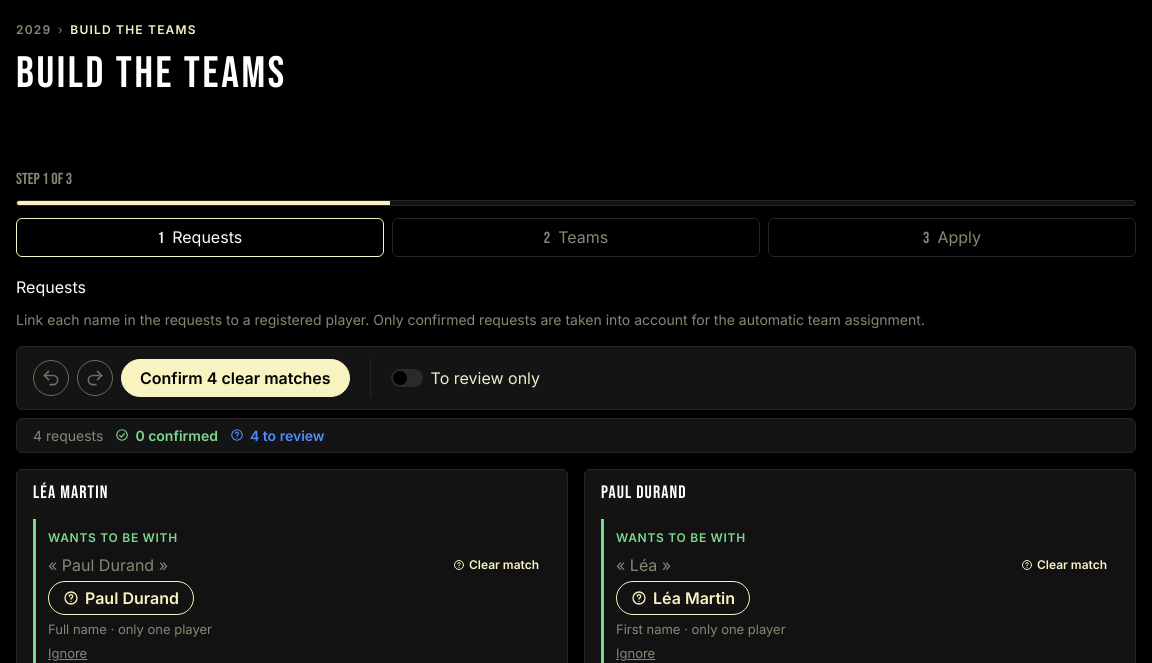
Test: team builder page › confirms every clear match with one click and keeps the count and the warning in step
Expected: the text "0 confirmed" is shown, [115, 427, 218, 444]
Expected: the text "4 to review" is shown, [230, 427, 325, 444]
Step 1. Click the button "Confirm 4 clear matches" → point(235, 378), box [121, 359, 350, 397]
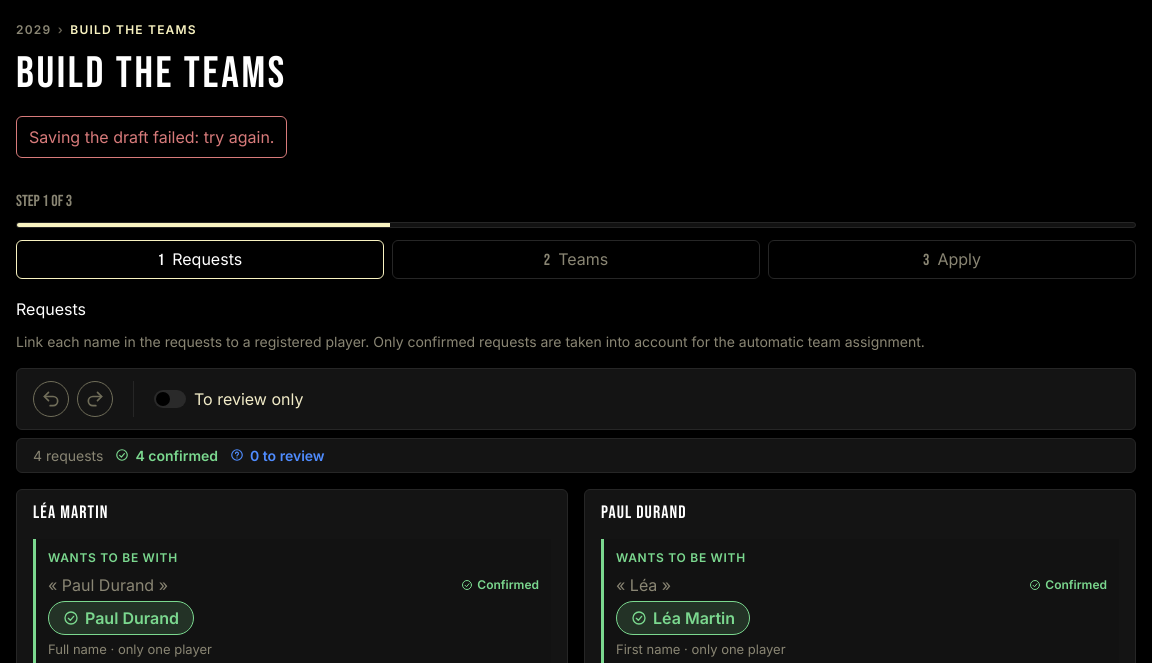
Result: the text "4 confirmed" is shown at [115, 447, 218, 464]
Result: the text "0 to review" is shown at [230, 447, 325, 464]
Result: the button "clear match" is gone
